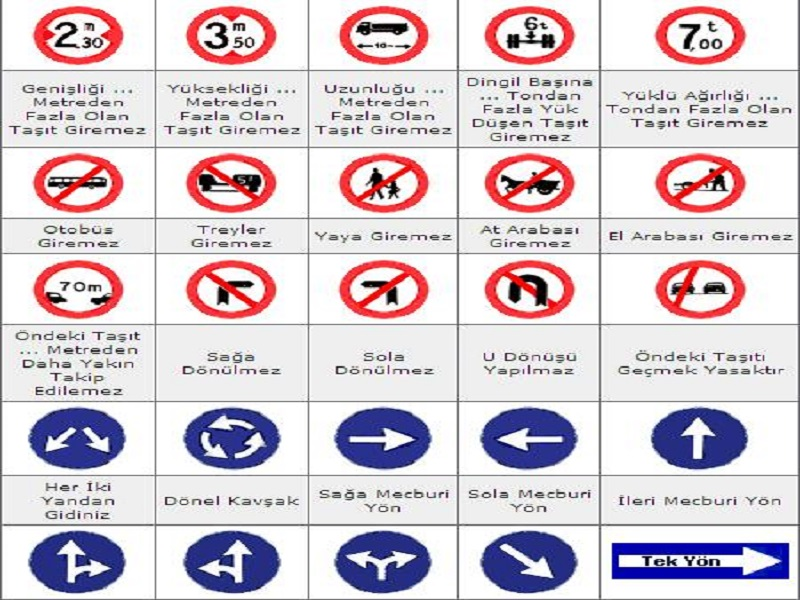sagaDon: (329, 404, 431, 468)
solaDon: (478, 406, 579, 472)
